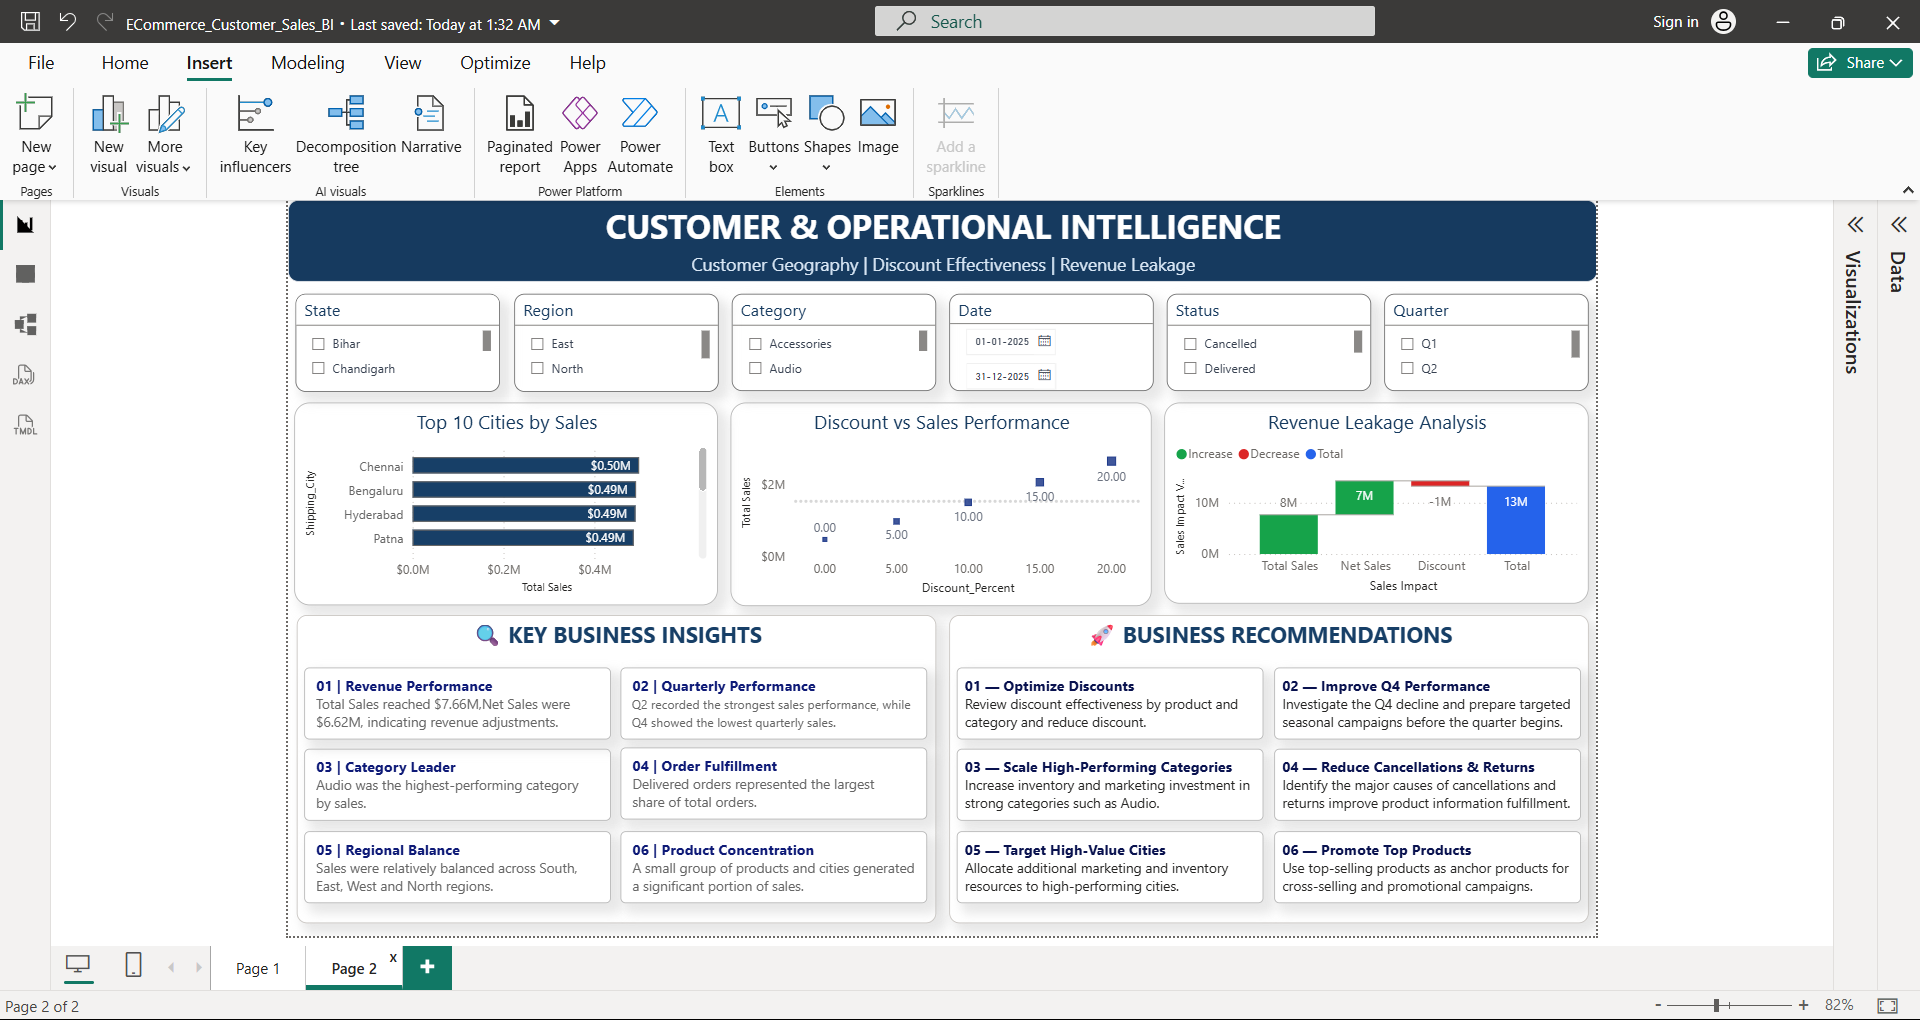

What the dashboard file says about the page in this screenshot:
{"tool":"powerbi","page":{"name":"Page 2","canvas":[1280,720],"ordinal":1},"visuals":[{"type":"scatterChart","title":"Discount vs Sales Performance","fields":{"Y":["Measures .Total Sales"],"Size":["Measures .Total Quantity"],"X":["Order_details.Discount_Percent"]},"box":[432.8,198.1,412.1,199.3],"z":0},{"type":"waterfallChart","title":"Revenue Leakage Analysis","fields":{"Y":["Measures .Sales Impact Value"],"Category":["Sales Impact.Sales Impact"]},"box":[857.1,198.7,415.4,197],"z":1000},{"type":"barChart","title":"Top 10 Cities by Sales","fields":{"Category":["Orders.Shipping_City"],"Y":["Measures .Total Sales"]},"box":[6.1,198.1,414.5,198.1],"z":2000},{"type":"textbox","title":"CUSTOMER & OPERATIONAL INTELLIGENCE","box":[0,0,1280.7,80],"z":3000},{"type":"slicer","title":"Date","fields":{"Values":["Datetable.Date"]},"box":[646.8,91.8,200,95],"z":4000},{"type":"slicer","title":"Category ","fields":{"Values":["Categories.Category_Name"]},"box":[433.8,91.8,200.3,95.2],"z":5000},{"type":"slicer","title":"Region","fields":{"Values":["Orders.Shipping_Region"]},"box":[220.8,91.8,200.3,96.1],"z":6000},{"type":"slicer","title":"Status","fields":{"Values":["Orders.Order_Status"]},"box":[859.5,91.8,200.3,95.2],"z":7000},{"type":"slicer","title":"Quarter","fields":{"Values":["Datetable.Quarter"]},"box":[1072.4,91.8,200,95.2],"z":8000},{"type":"slicer","title":"State","fields":{"Values":["Orders.Shipping_State"]},"box":[7.8,91.8,200.3,96.1],"z":9000},{"type":"textbox","title":"🔍 KEY BUSINESS INSIGHTS","box":[8.1,405.5,625.3,301.3],"z":10000},{"type":"textbox","title":"🚀 BUSINESS RECOMMENDATIONS","box":[646.5,405.5,625.3,301.3],"z":11000},{"type":"textbox","box":[16.3,537.4,299.6,70],"z":12000},{"type":"textbox","box":[16.3,457.6,300,70],"z":13000},{"type":"textbox","box":[325,457.9,300,70],"z":14000},{"type":"textbox","box":[325.7,535.8,299.6,70],"z":15000},{"type":"textbox","box":[16.3,617.2,300,70],"z":16000},{"type":"textbox","box":[325,617.5,300,70],"z":17000},{"type":"textbox","box":[654,457.6,299.6,70],"z":18000},{"type":"textbox","box":[964.5,457.6,299.6,70],"z":19000},{"type":"textbox","box":[654,537.4,299.6,70],"z":20000},{"type":"textbox","box":[964.5,537.4,299.6,70],"z":21000},{"type":"textbox","box":[654,617.2,299.6,70],"z":22000},{"type":"textbox","box":[964.5,617.2,299.6,70],"z":23000},{"type":"textbox","title":"Page 02 | Prepared by Saima Momin","box":[1028,697.3,243.8,20.5],"z":24000}]}

Visuals, with their boxes on the page's 1280x720 design canvas (x1, y1, x2, y2). These are canvas units, not pixel positions in the 1920x1020 screenshot, which may show the page scaled, cropped or inside an application window:
"Discount vs Sales Performance" scatterChart: x1=433 y1=198 x2=845 y2=397
"Revenue Leakage Analysis" waterfallChart: x1=857 y1=199 x2=1272 y2=396
"Top 10 Cities by Sales" barChart: x1=6 y1=198 x2=421 y2=396
"CUSTOMER & OPERATIONAL INTELLIGENCE" textbox: x1=0 y1=0 x2=1281 y2=80
"Date" slicer: x1=647 y1=92 x2=847 y2=187
"Category " slicer: x1=434 y1=92 x2=634 y2=187
"Region" slicer: x1=221 y1=92 x2=421 y2=188
"Status" slicer: x1=860 y1=92 x2=1060 y2=187
"Quarter" slicer: x1=1072 y1=92 x2=1272 y2=187
"State" slicer: x1=8 y1=92 x2=208 y2=188
"🔍 KEY BUSINESS INSIGHTS" textbox: x1=8 y1=406 x2=633 y2=707
"🚀 BUSINESS RECOMMENDATIONS" textbox: x1=646 y1=406 x2=1272 y2=707
textbox: x1=16 y1=537 x2=316 y2=607
textbox: x1=16 y1=458 x2=316 y2=528
textbox: x1=325 y1=458 x2=625 y2=528
textbox: x1=326 y1=536 x2=625 y2=606
textbox: x1=16 y1=617 x2=316 y2=687
textbox: x1=325 y1=618 x2=625 y2=688
textbox: x1=654 y1=458 x2=954 y2=528
textbox: x1=964 y1=458 x2=1264 y2=528
textbox: x1=654 y1=537 x2=954 y2=607
textbox: x1=964 y1=537 x2=1264 y2=607
textbox: x1=654 y1=617 x2=954 y2=687
textbox: x1=964 y1=617 x2=1264 y2=687
"Page 02 | Prepared by Saima Momin" textbox: x1=1028 y1=697 x2=1272 y2=718
